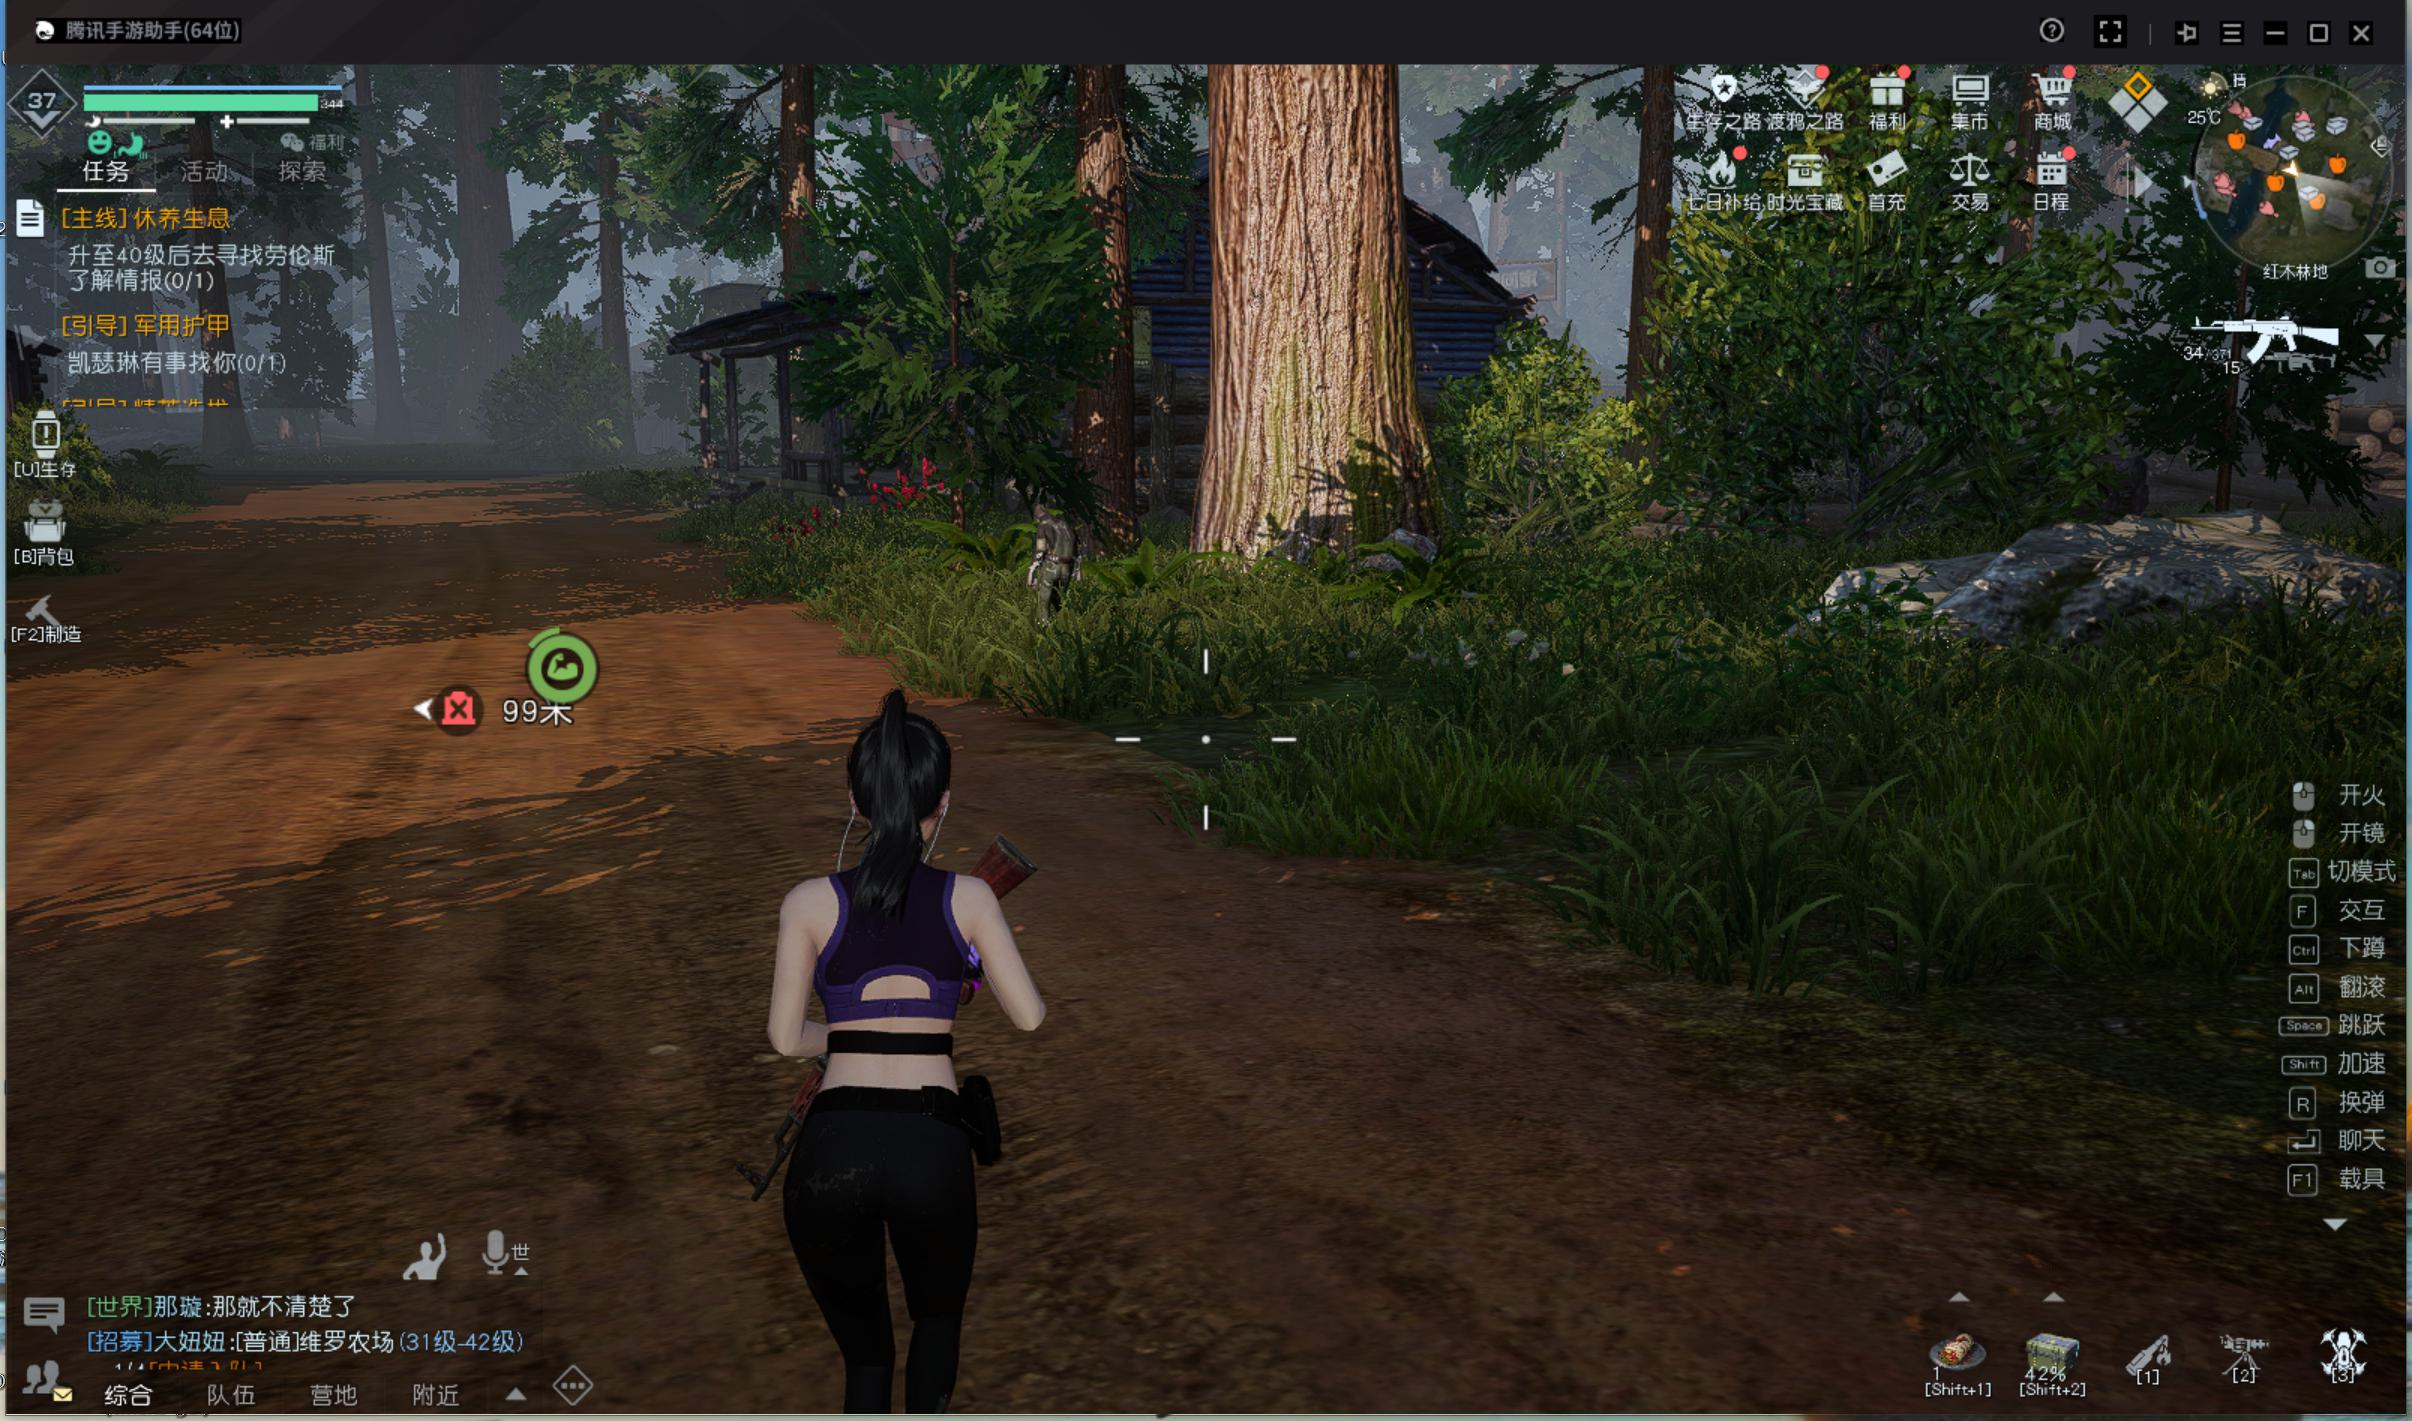tree: (1182, 90, 1448, 617), (1050, 101, 1150, 602), (183, 167, 267, 475), (584, 142, 651, 457), (360, 144, 409, 435)
